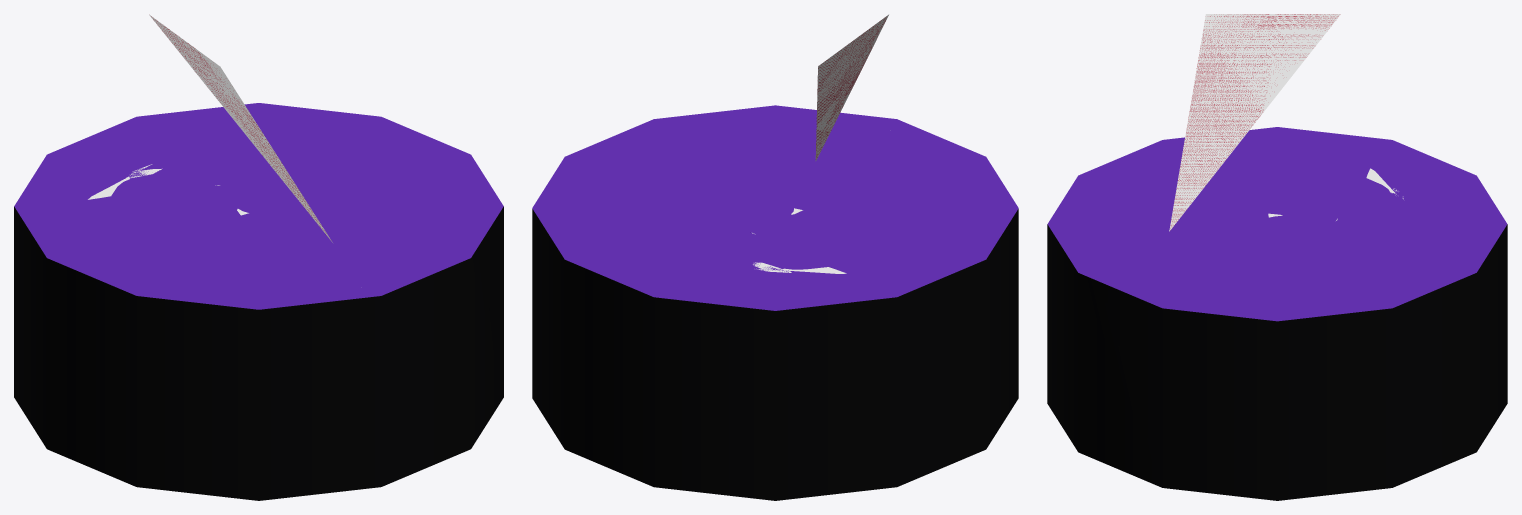
The model's file is test_subject.dae.
3 renders of one model, left to right at view 1: azimuth 30°, elevation 25°; view 2: azimuth 150°, elevation 25°; view 3: azimuth 270°, elevation 25°, orthographic. The views are drawn at different scales.
Parts seen in each view (by area): view 1: SketchUp (×3); view 2: SketchUp (×3); view 3: SketchUp (×3).
Boxes of the visible parts, x1,y1,x2,y2 form: SketchUp (×3): (14, 14, 503, 500); SketchUp (×3): (532, 14, 1018, 500); SketchUp (×3): (1047, 14, 1507, 500).
Size of the model in its own units: 35.59 by 35.59 by 30.26.
